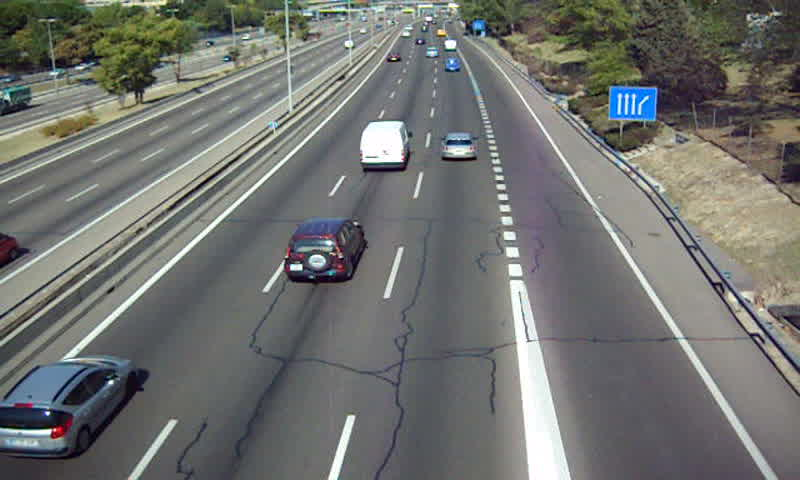car: (1, 356, 135, 457), (286, 219, 364, 283), (441, 132, 476, 160), (444, 57, 462, 73)
van: (360, 122, 411, 168)
